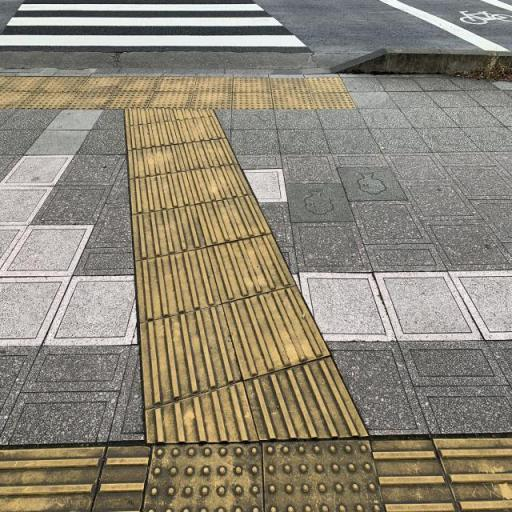dot: (262, 439, 386, 511), (141, 441, 264, 511)
line: (141, 305, 245, 408), (245, 355, 370, 440), (221, 285, 332, 380), (147, 381, 260, 444), (0, 445, 107, 511), (135, 246, 225, 324), (371, 438, 457, 511), (209, 234, 296, 304), (433, 435, 511, 511), (131, 205, 208, 261), (195, 193, 272, 248), (92, 446, 151, 511)
